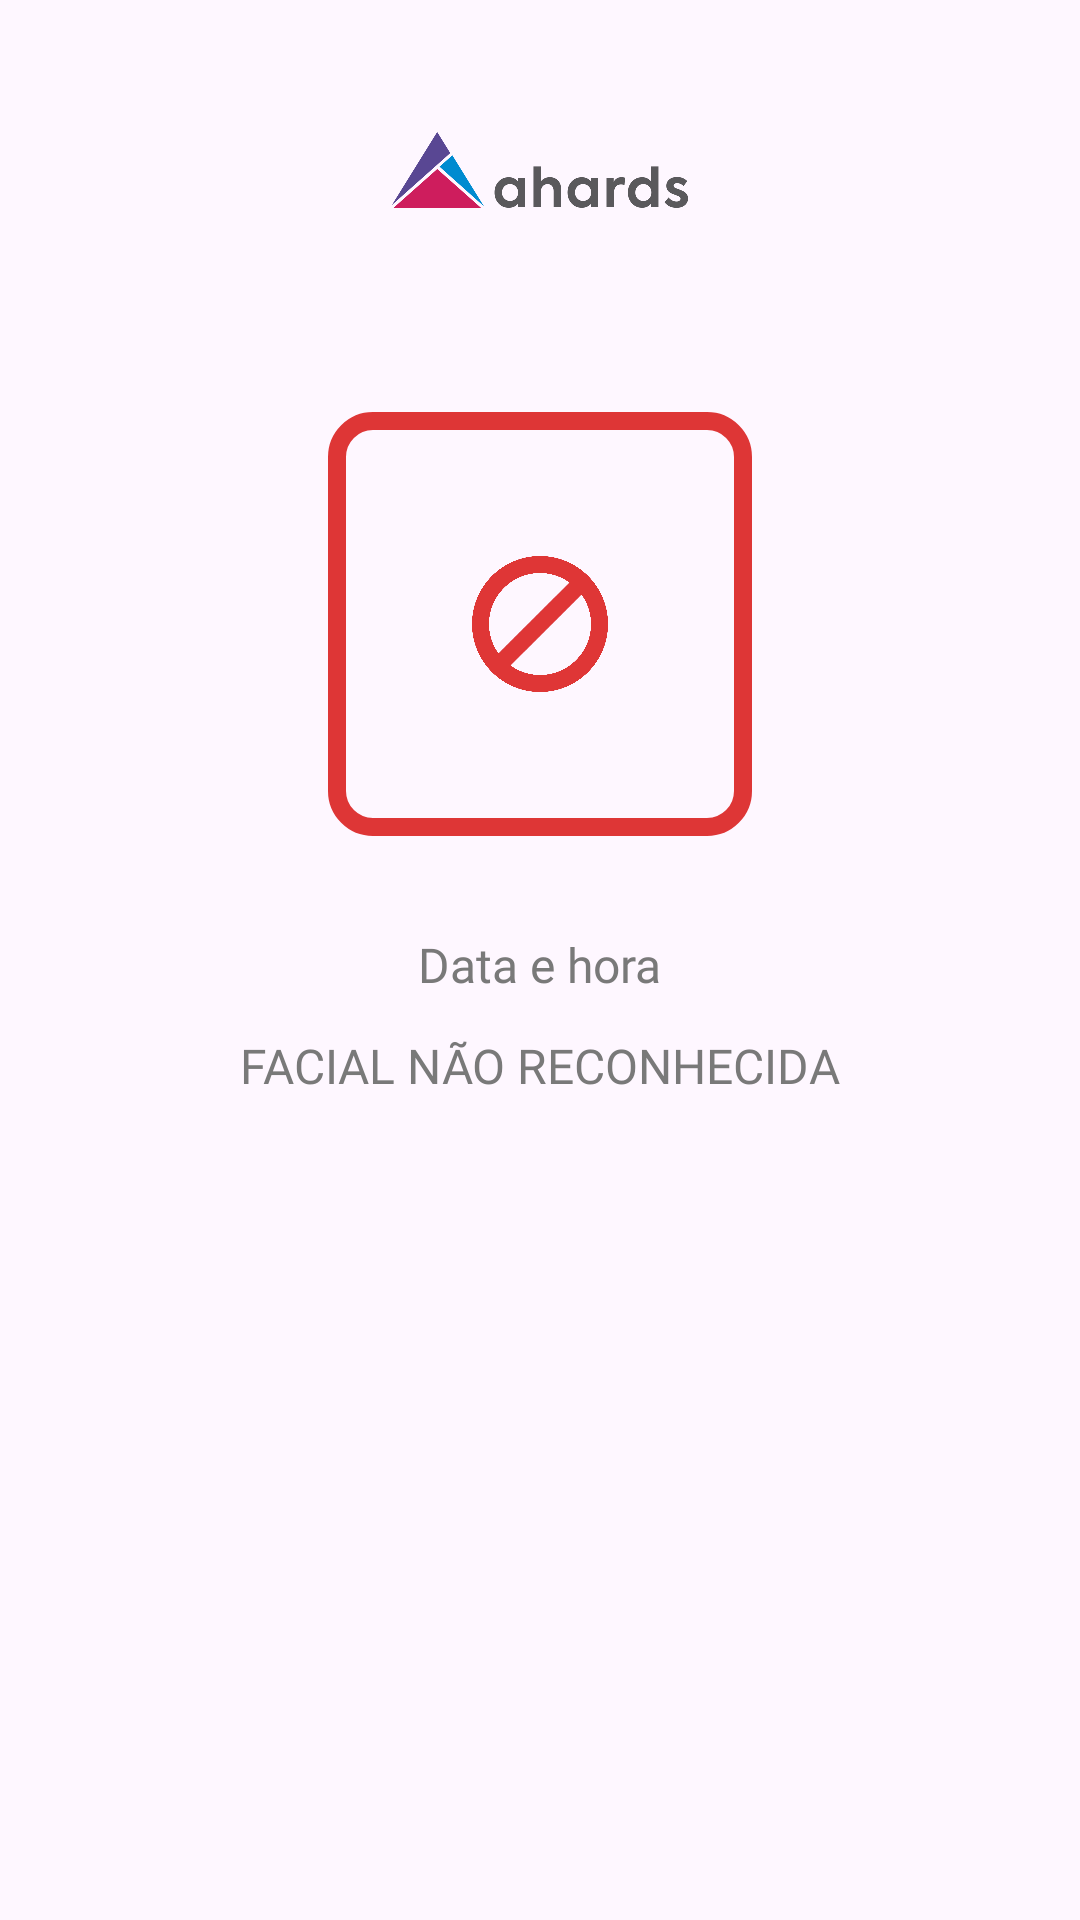

Where to tap for icons on this 1080x1920 app screen, as point (x, y):
not recognized: point (540, 624)
